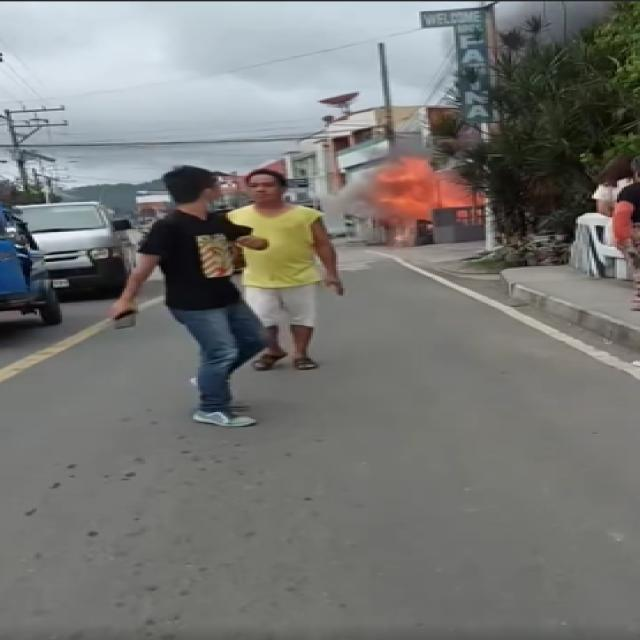Fire: (391, 167, 476, 223)
Smoke: (356, 168, 478, 224)
